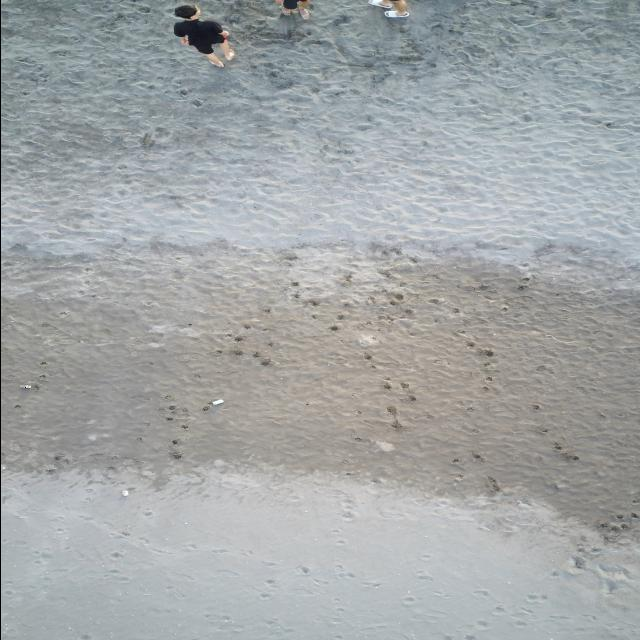Garbage: (211, 399, 223, 404), (120, 488, 128, 495), (20, 384, 31, 388)
